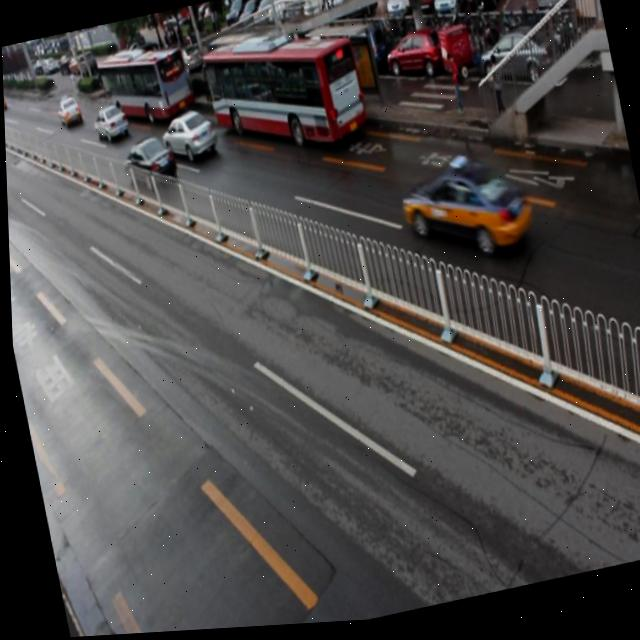car: (395, 154, 535, 275), (158, 107, 221, 170), (118, 134, 178, 197), (90, 102, 129, 147)
van: (201, 22, 369, 171), (95, 43, 197, 134)
